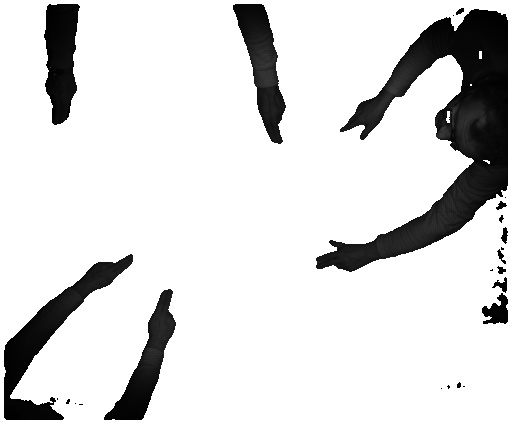hand: (82, 248, 135, 295), (336, 97, 388, 143), (312, 237, 370, 271), (145, 288, 175, 348), (43, 78, 79, 127), (256, 93, 287, 143)
